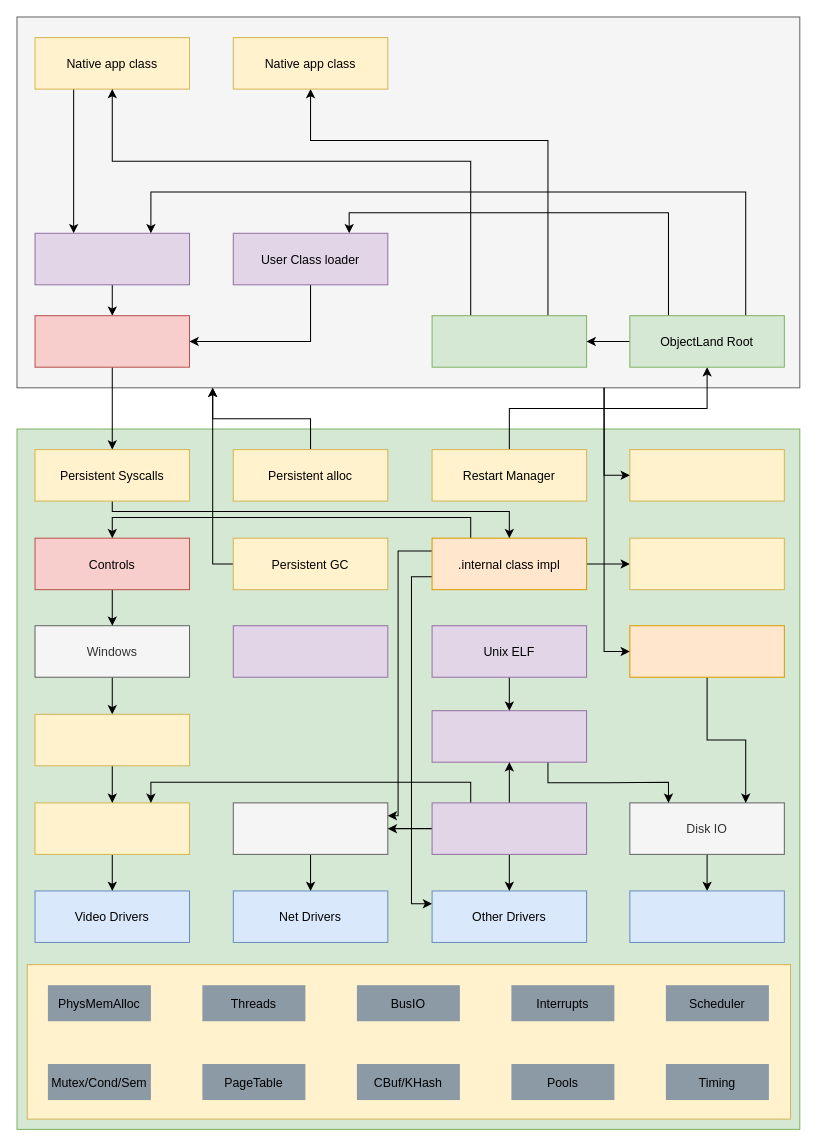
Image size: 817x1146. Some labels were removed from this diagram. The shapes that lost their labels are listed below. From the top down, each one's box as (x1, y1, x2, y2) in pixels, then its label:
(34, 232, 190, 285): OS service class
(34, 315, 190, 367): .internal class interface
(431, 315, 587, 367): Object Directory
(629, 449, 784, 501): Bytecode VM
(629, 537, 784, 590): Class Loader
(232, 625, 388, 677): BeOS Ports
(629, 625, 784, 677): Persistent pager
(34, 713, 190, 766): Fonts
(431, 710, 587, 762): Unix FS
(34, 802, 190, 854): Graphics
(232, 802, 388, 854): TCP/IP
(431, 802, 587, 854): Unix API
(629, 890, 784, 942): Block Drivers
